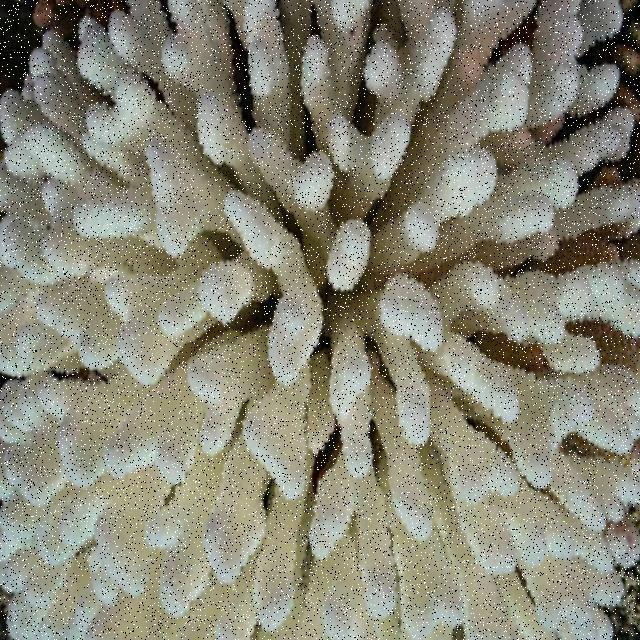Bleached: (1, 6, 637, 640)
